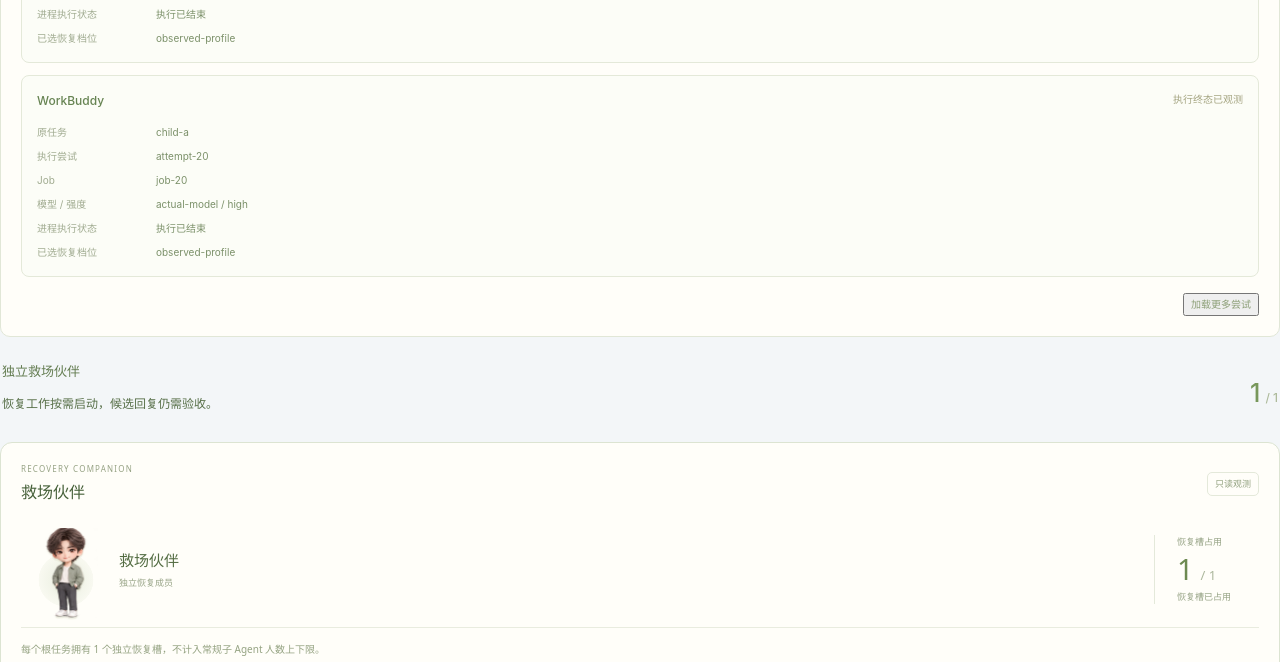
Test: managed team task panel › discards a late attempt page after switching the selected task
The image size is (1280, 662).
(page scrolled)
Click the button "加载更多尝试" at (1221, 304), box [1183,293,1259,316]
(page scrolled)
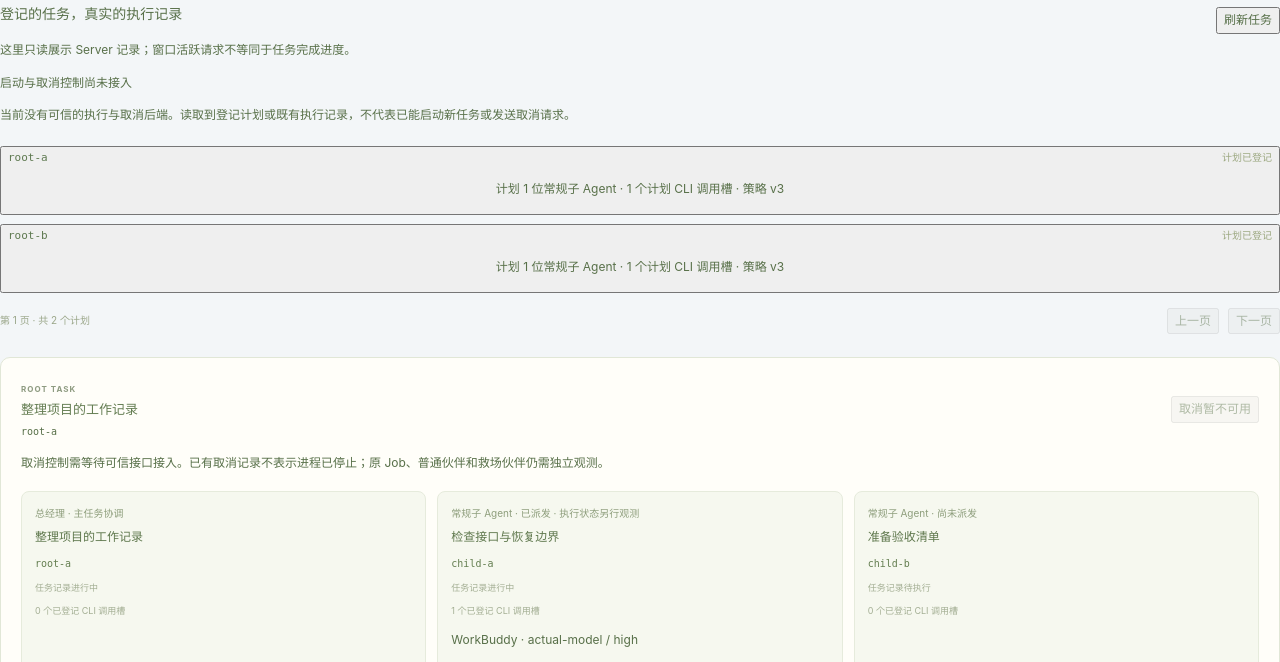
Click the button with aria-label "查看任务 root-b" at (640, 258), box [0,224,1279,293]
(page scrolled)
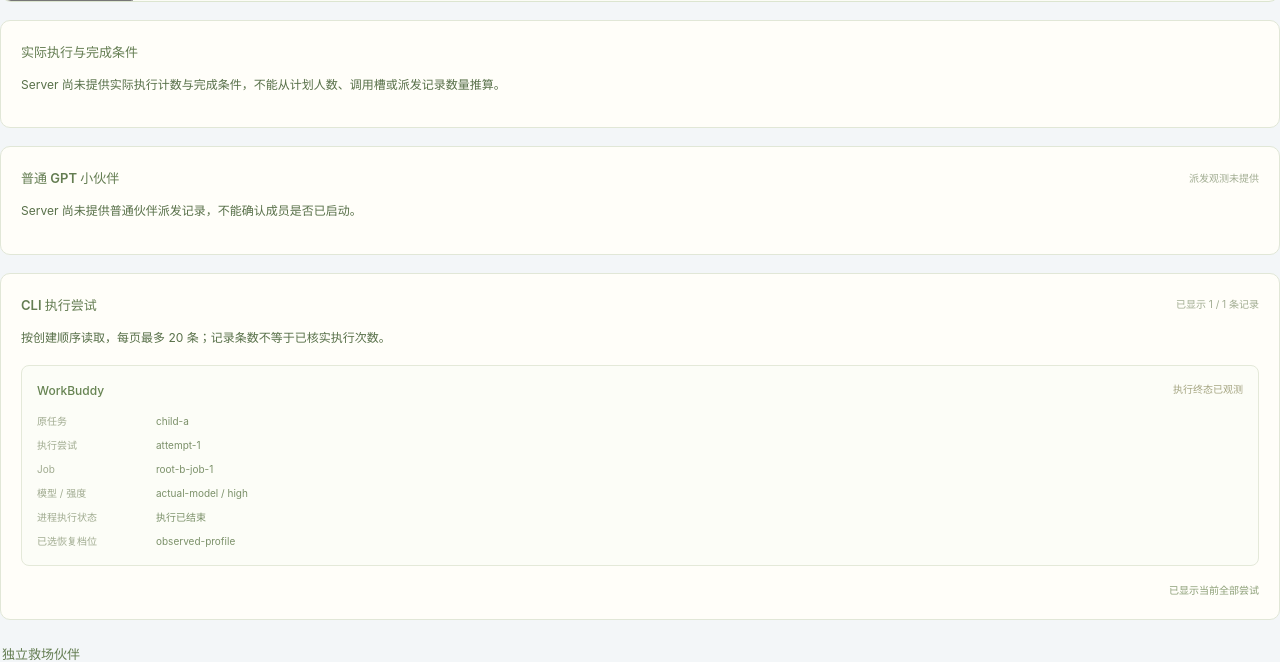
Now the text "root-b-job-1" is shown, box [156,463,213,475]
Now the text "已显示 1 / 1 条记录" is shown, box [1176,296,1259,313]
